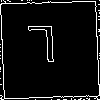L: (25, 25, 58, 72)
